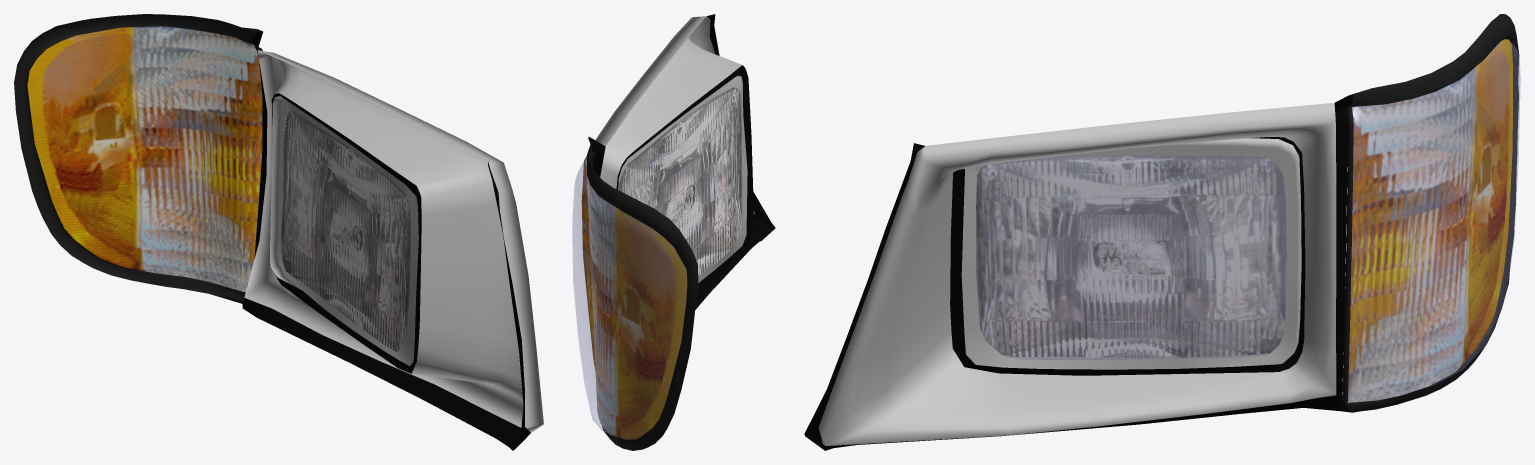
3 views of the same model, side by side, from view 1: azimuth 30°, elevation 25°; view 2: azimuth 150°, elevation 25°; view 3: azimuth 270°, elevation 25° (orthographic). The views are drawn at different scales.
Parts seen in each view (by area): view 1: P615_5A_061B_L_P615_5A_061B_L_3_N, P615_5A_061B_L_2_DaS_P615_5A_061B_L, P615_5A_061B_L_P615_5A_061B_L_4_D, P615_5A_061B_L_P615_5A_061B_L_5_D; view 2: P615_5A_061B_L_P615_5A_061B_L_3_N, P615_5A_061B_L_P615_5A_061B_L_6_DTaSI, P615_5A_061B_L_2_DaS_P615_5A_061B_L, P615_5A_061B_L_P615_5A_061B_L_5_D, P615_5A_061B_L_P615_5A_061B_L_4_D; view 3: P615_5A_061B_L_P615_5A_061B_L_3_N, P615_5A_061B_L_2_DaS_P615_5A_061B_L, P615_5A_061B_L_P615_5A_061B_L_1_DTaSI, P615_5A_061B_L_P615_5A_061B_L_6_DTaSI, P615_5A_061B_L_P615_5A_061B_L_4_D, P615_5A_061B_L_P615_5A_061B_L_5_D.
Part boxes in pixels (<box>): P615_5A_061B_L_P615_5A_061B_L_3_N: <box>27,26,410,351</box>; P615_5A_061B_L_2_DaS_P615_5A_061B_L: <box>244,50,543,432</box>; P615_5A_061B_L_P615_5A_061B_L_4_D: <box>242,29,530,450</box>; P615_5A_061B_L_P615_5A_061B_L_5_D: <box>14,14,262,303</box>; P615_5A_061B_L_P615_5A_061B_L_3_N: <box>581,87,742,439</box>; P615_5A_061B_L_P615_5A_061B_L_6_DTaSI: <box>572,156,686,439</box>; P615_5A_061B_L_2_DaS_P615_5A_061B_L: <box>595,16,754,282</box>; P615_5A_061B_L_P615_5A_061B_L_5_D: <box>587,139,698,450</box>; P615_5A_061B_L_P615_5A_061B_L_4_D: <box>588,14,775,309</box>; P615_5A_061B_L_P615_5A_061B_L_3_N: <box>976,39,1512,402</box>; P615_5A_061B_L_2_DaS_P615_5A_061B_L: <box>818,102,1336,445</box>; P615_5A_061B_L_P615_5A_061B_L_1_DTaSI: <box>976,156,1286,359</box>; P615_5A_061B_L_P615_5A_061B_L_6_DTaSI: <box>1348,39,1520,402</box>; P615_5A_061B_L_P615_5A_061B_L_4_D: <box>804,93,1355,450</box>; P615_5A_061B_L_P615_5A_061B_L_5_D: <box>1341,14,1519,412</box>.
Size of the model in its own units: 22.49 by 22.98 by 44.57.
